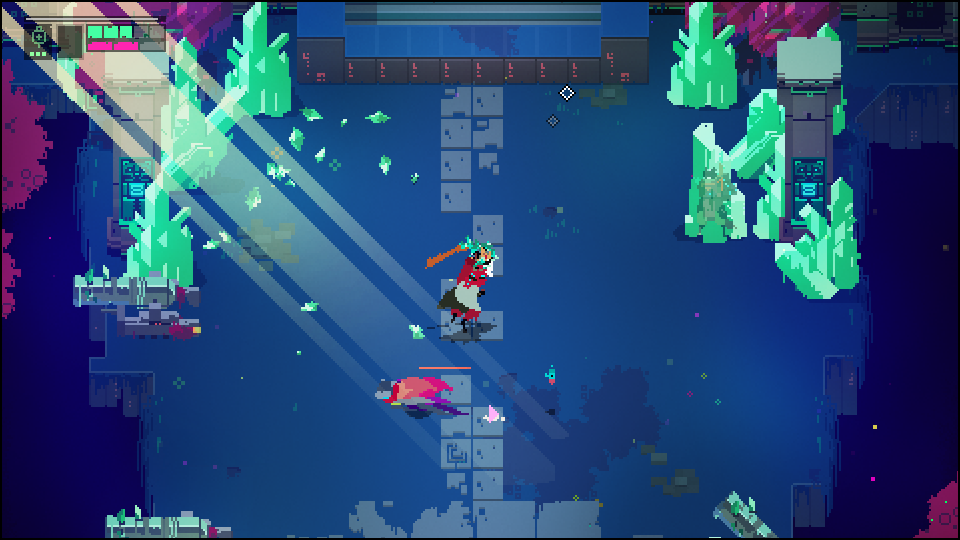hanged_man: (430, 236, 499, 335)
player: (372, 377, 448, 411)
